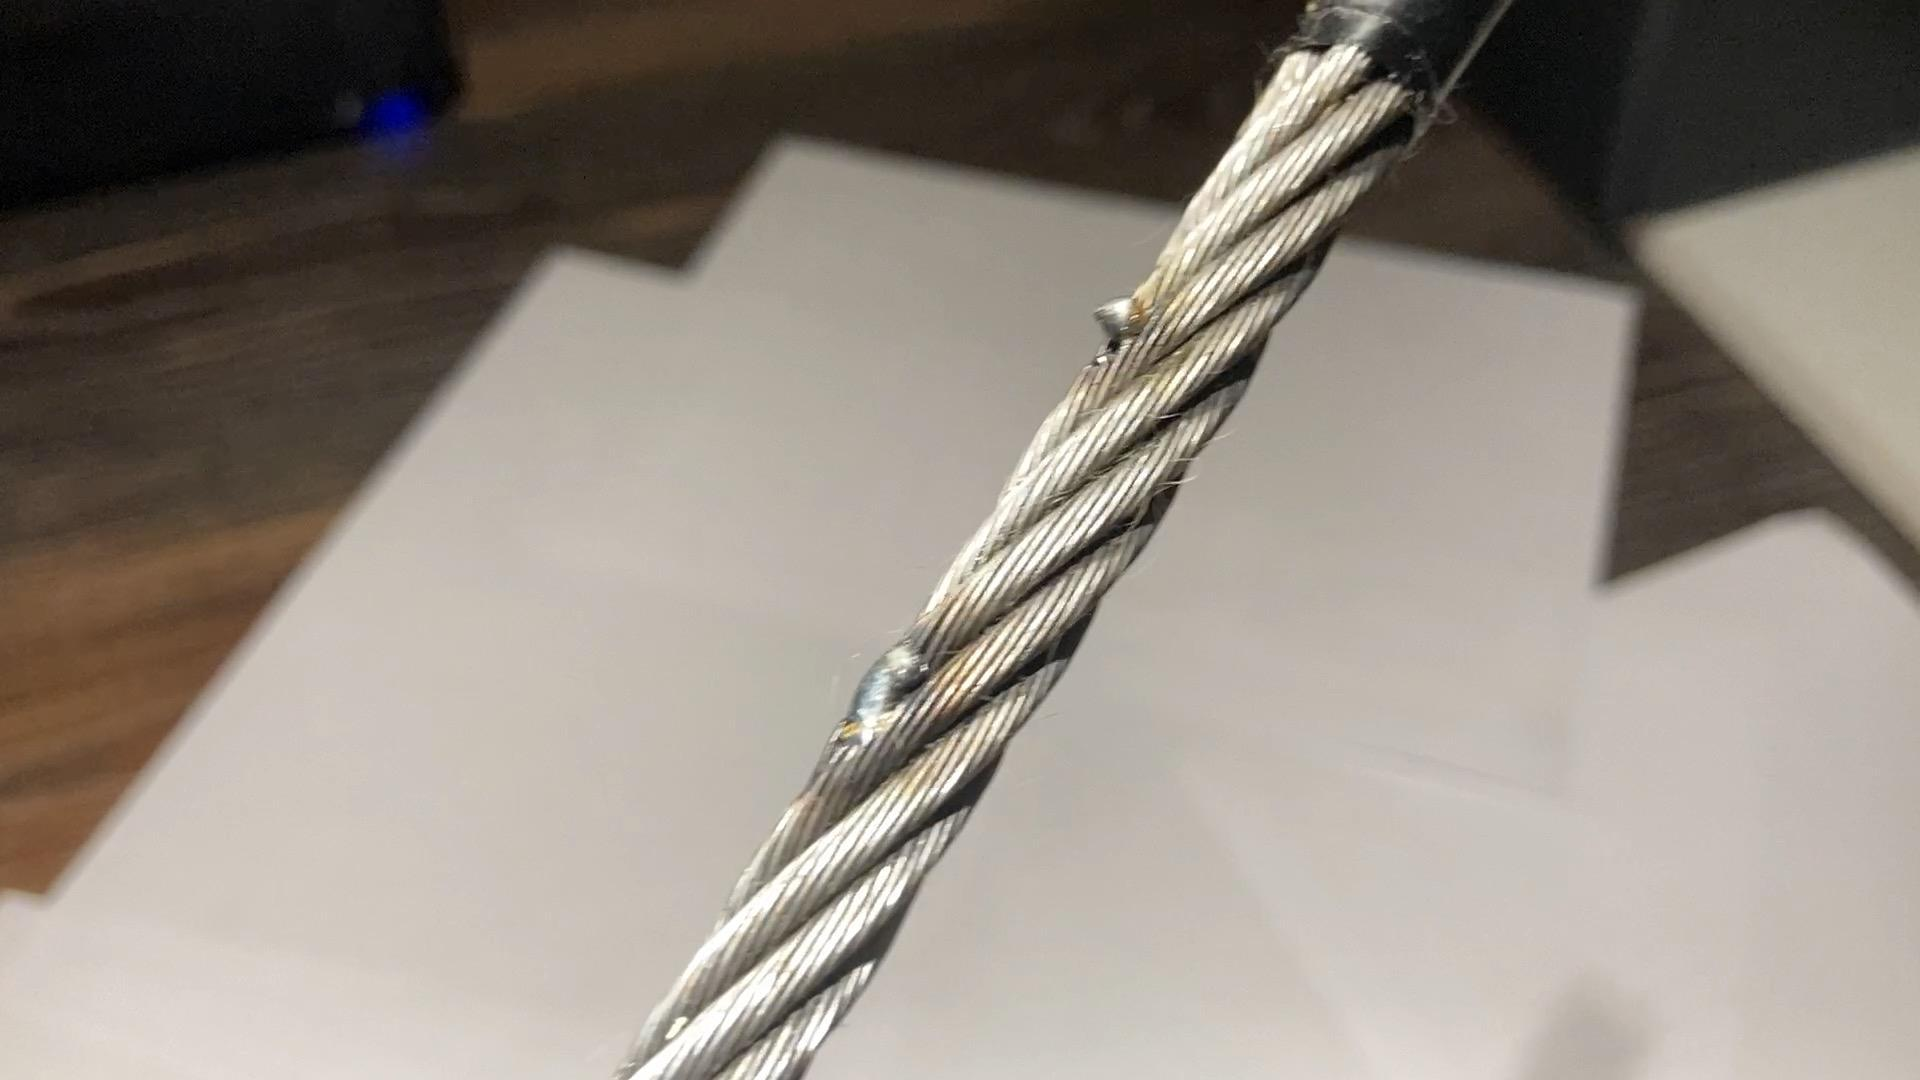thunderbolt: (825, 633, 957, 740), (1077, 280, 1187, 384)
